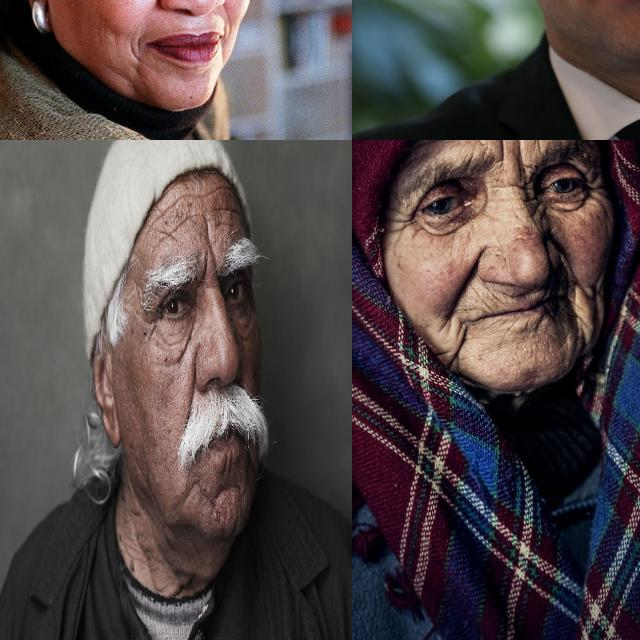bunny_line: (524, 199, 552, 237)
chin: (216, 479, 238, 500), (187, 472, 201, 498), (222, 450, 233, 479)
crows_feet: (391, 209, 424, 239), (582, 176, 608, 214), (144, 308, 156, 342)
forehead: (154, 204, 174, 248), (219, 199, 240, 233), (177, 192, 193, 234), (198, 185, 215, 201)
frown_line: (496, 140, 529, 181), (203, 226, 216, 275)
gummy_smile: (440, 264, 486, 312), (186, 371, 198, 424)
masseter: (579, 284, 605, 348), (90, 16, 108, 49), (132, 452, 150, 484), (177, 334, 190, 366)
sad_smile: (124, 29, 148, 72), (445, 326, 467, 370), (217, 21, 231, 61)
smoker_lines: (492, 284, 530, 306)
